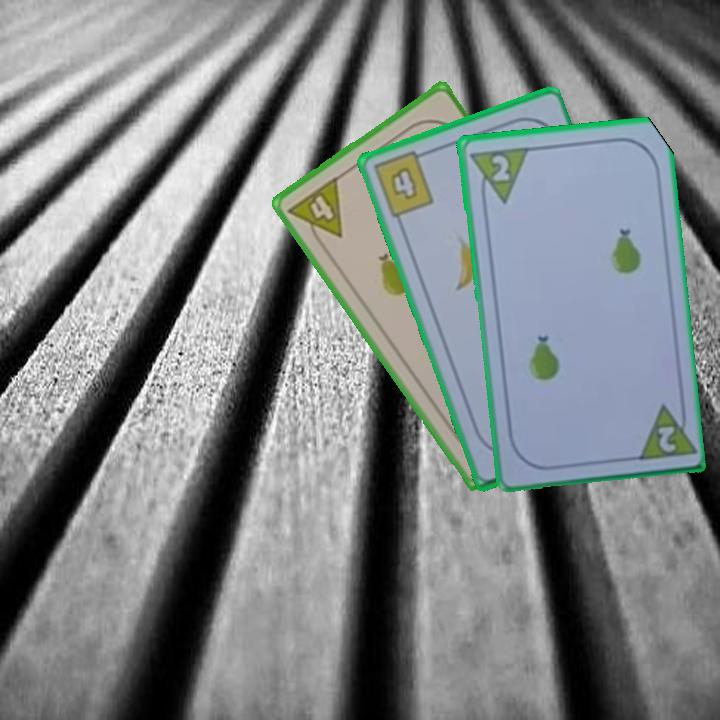2p: (466, 142, 531, 207), (654, 422, 679, 456)
4b: (369, 146, 437, 221)
4p: (284, 173, 346, 252)
